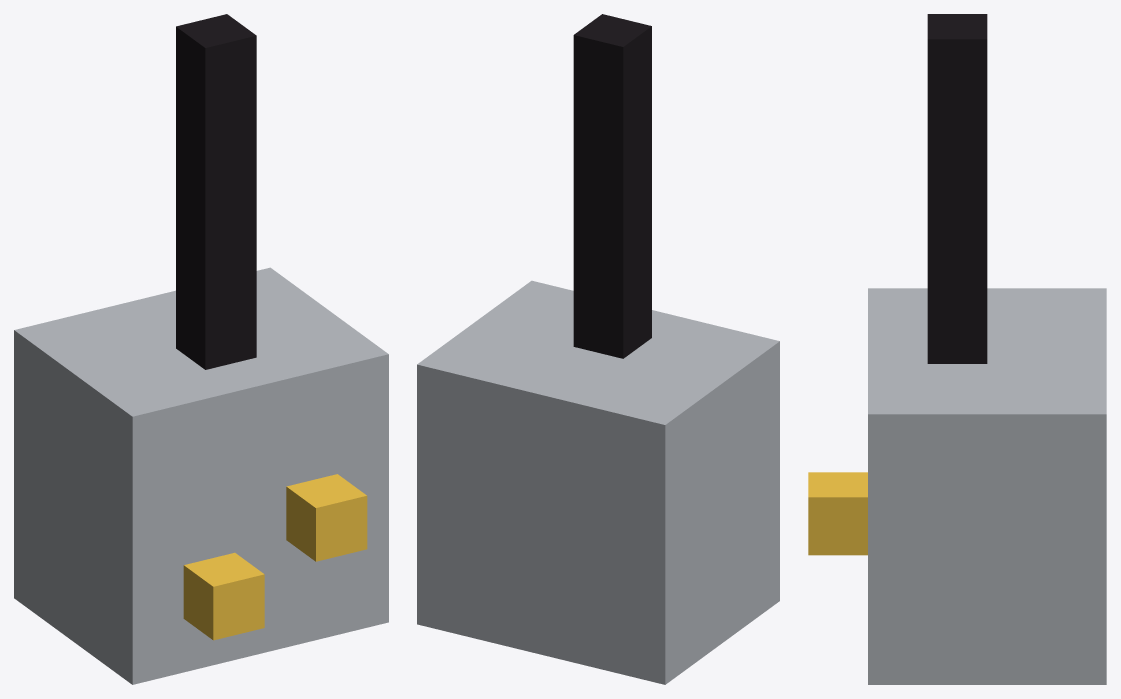
Rendered from basket.glb.
3 views of the same model, side by side, from view 1: azimuth 30°, elevation 25°; view 2: azimuth 150°, elevation 25°; view 3: azimuth 270°, elevation 25° (orthographic). The views are drawn at different scales.
Visible parts, largest first — view 1: basket; view 2: basket; view 3: basket.
Boxes of the visible parts, <box> form: basket: <box>14,14,388,684</box>; basket: <box>417,14,779,684</box>; basket: <box>808,14,1106,684</box>.
Size of the model in its own units: 0.25 by 0.55 by 0.25.
1 material, 1 textured.
